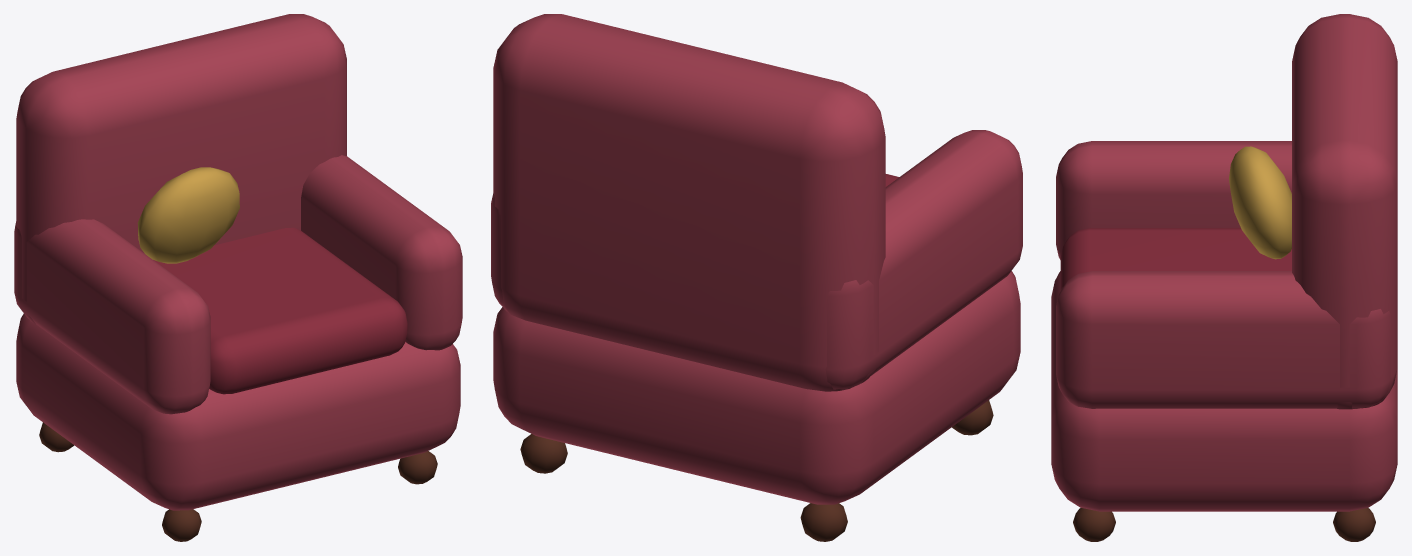
File: armchair.glb
3 renders of one model, left to right at view 1: azimuth 30°, elevation 25°; view 2: azimuth 150°, elevation 25°; view 3: azimuth 270°, elevation 25°, orthographic. The views are drawn at different scales.
Parts seen in each view (by area): view 1: armchair; view 2: armchair; view 3: armchair.
Part boxes in pixels (box(x1,y1,x2,y2)): armchair: box(14, 14, 462, 541); armchair: box(491, 14, 1022, 541); armchair: box(1051, 14, 1397, 541).
Size of the model in its own units: 0.8 by 0.9155 by 0.72.
